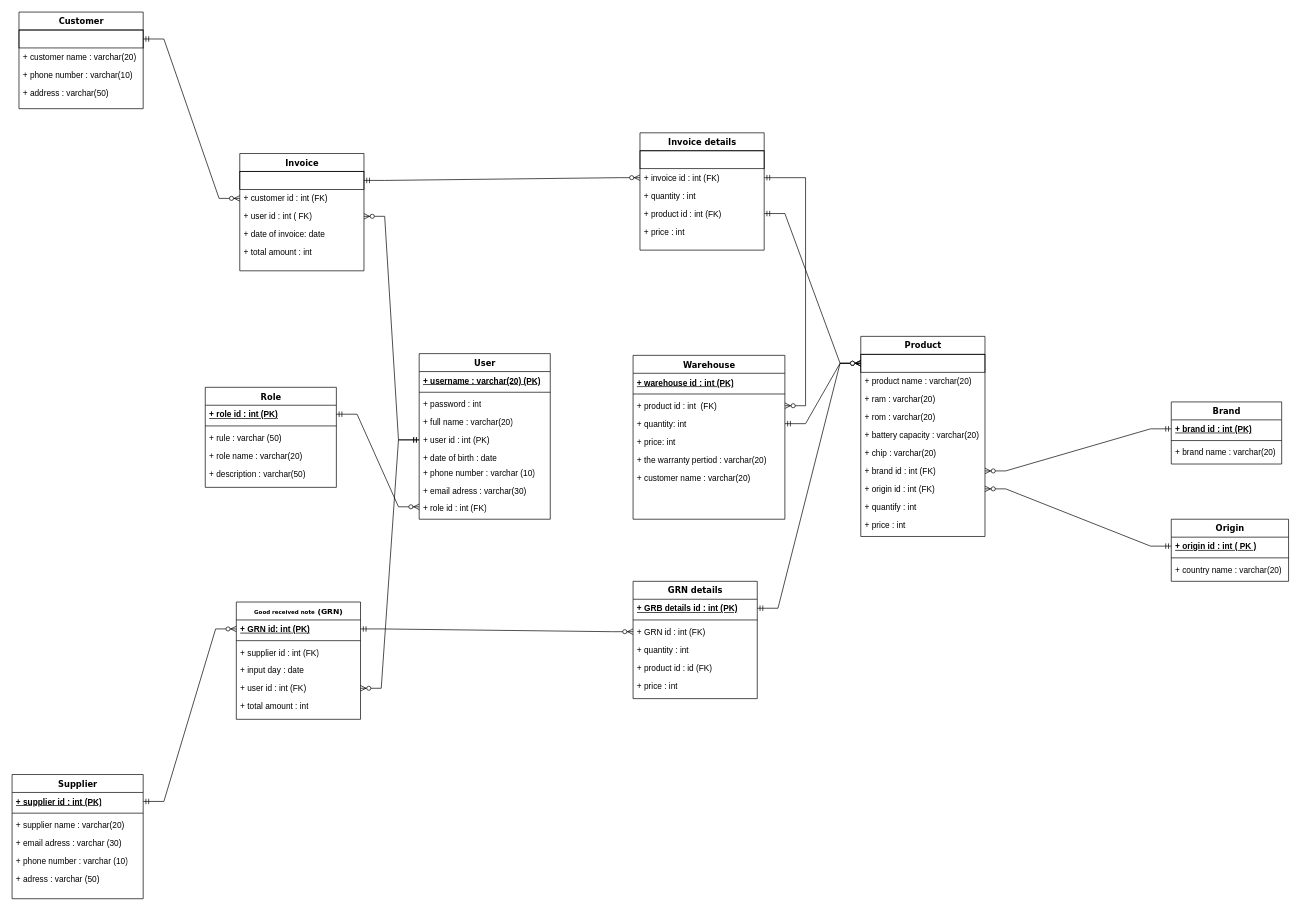
This 1301x911 diagram has some shape labels left out. The shapes that lost their labels are listed below. From the top down, each one's centre as x and y in pixels, then its label:
the point at 80,38: + customer id: int (PK)
the point at 701,159: + invoice details id: int (PK)
the point at 301,180: + invoice id: int (PK)
the point at 922,363: + product id : int (PK)
